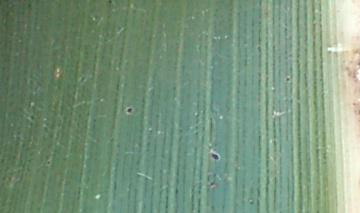tarspot: (208, 151, 220, 162), (207, 179, 216, 188), (126, 106, 134, 115), (256, 44, 262, 54), (284, 75, 291, 82), (45, 159, 52, 166), (25, 1, 31, 9), (28, 114, 35, 120), (107, 1, 114, 5)
